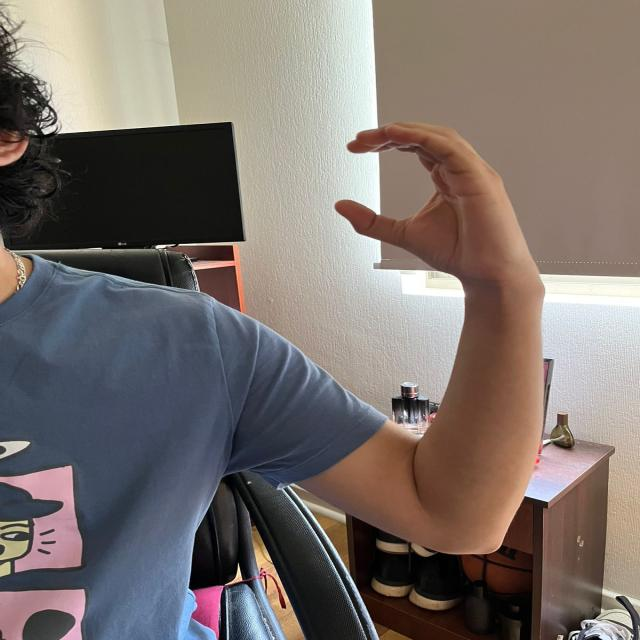C: (320, 114, 529, 287)
